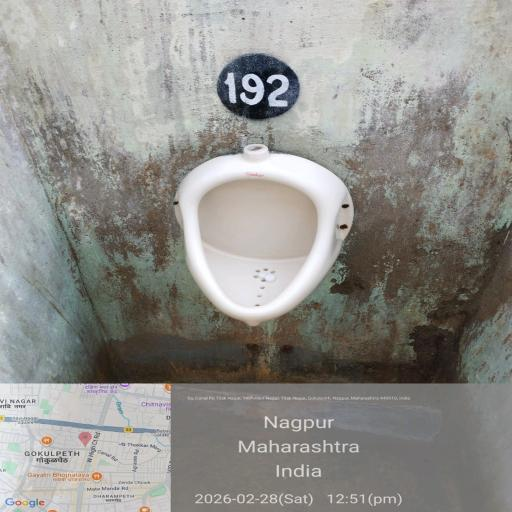clean_indian: (106, 110, 368, 330)
dirty_floor: (7, 2, 502, 175)
partial_dirty_floor: (0, 306, 512, 512)
